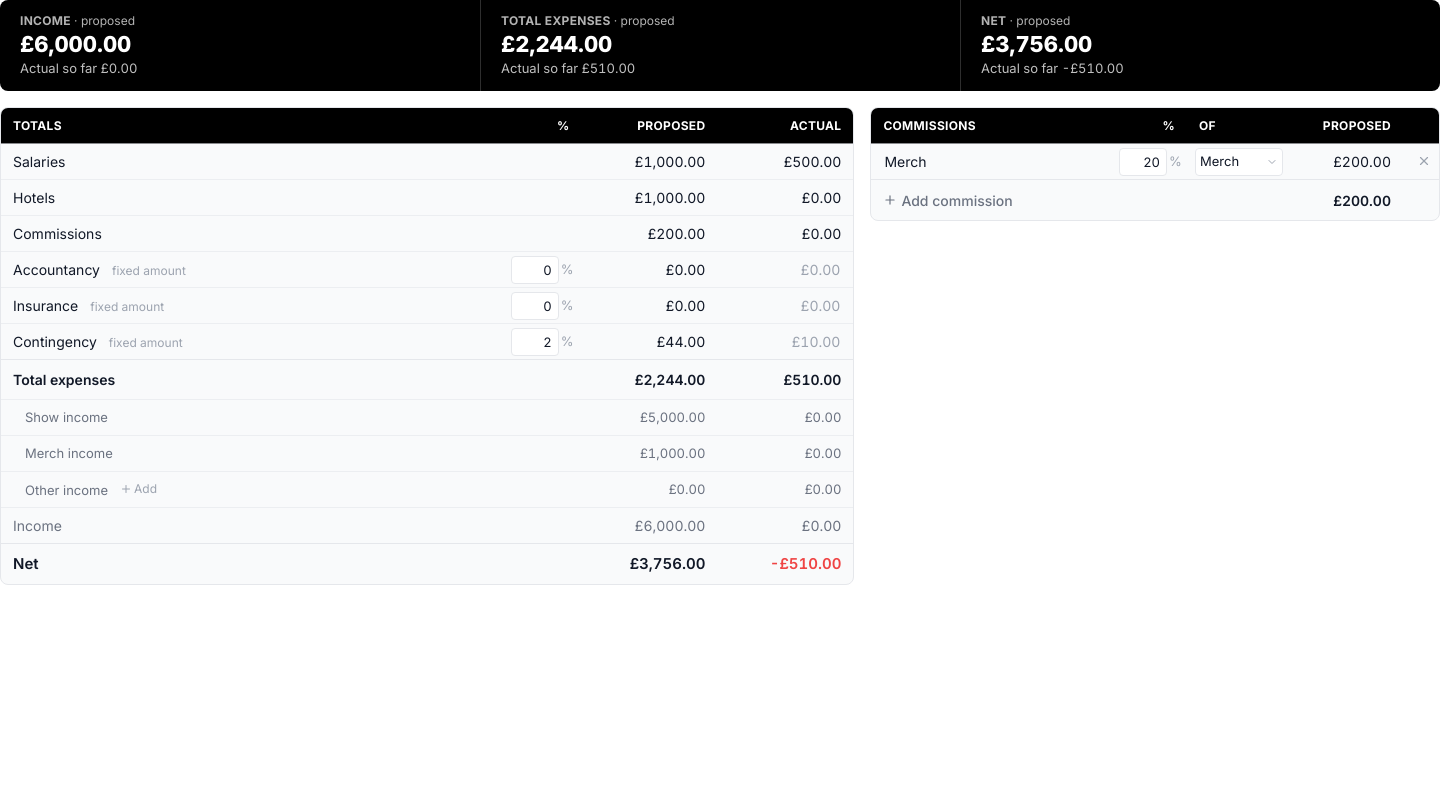
<BudgetSheetTop> › a commission ticks the parts it is a % of
Click the button with aria-label "Merch is a percentage of" at (1239, 162), box [1195,148,1283,176]
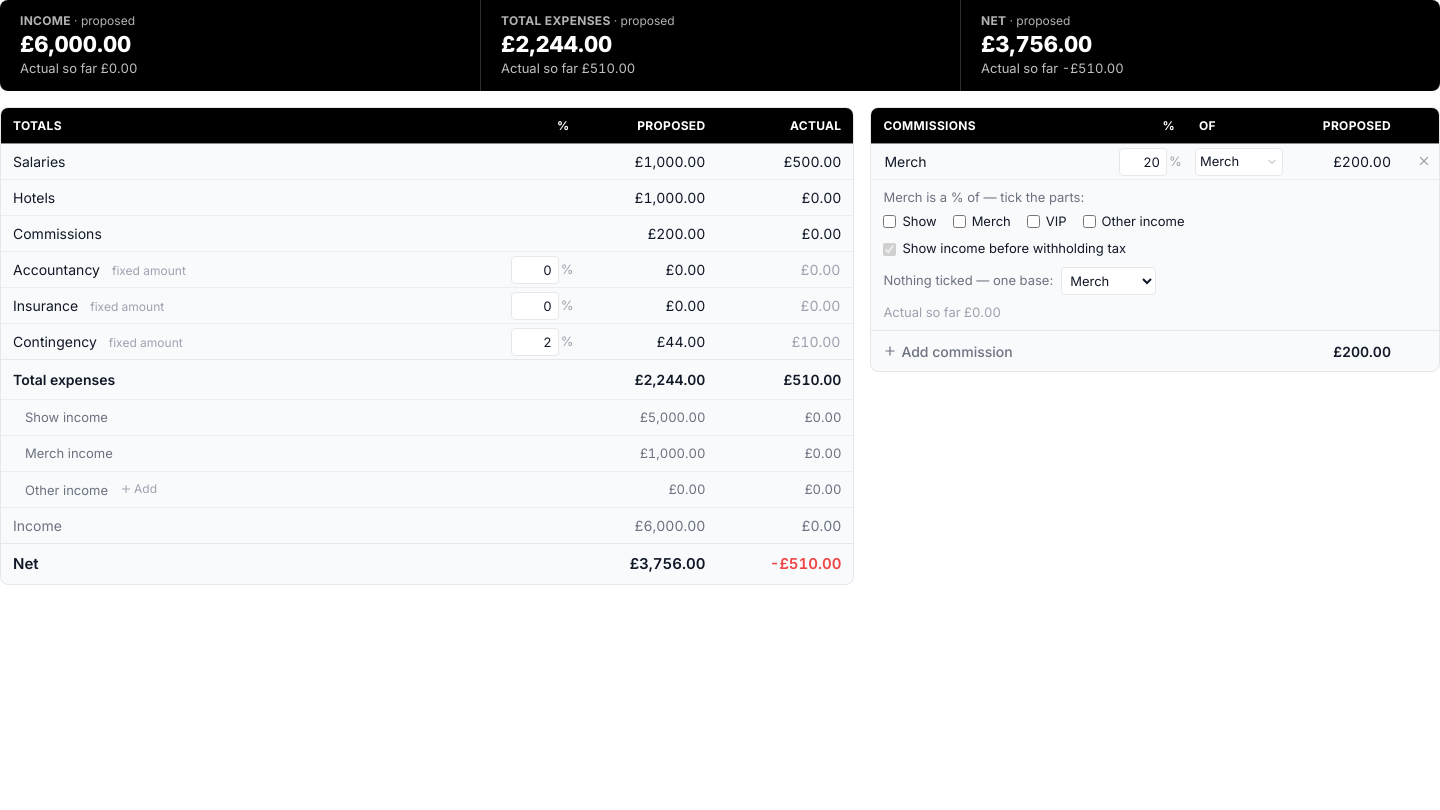
Click the checkbox labelled "Show" at (890, 222), box [883,215,896,228]
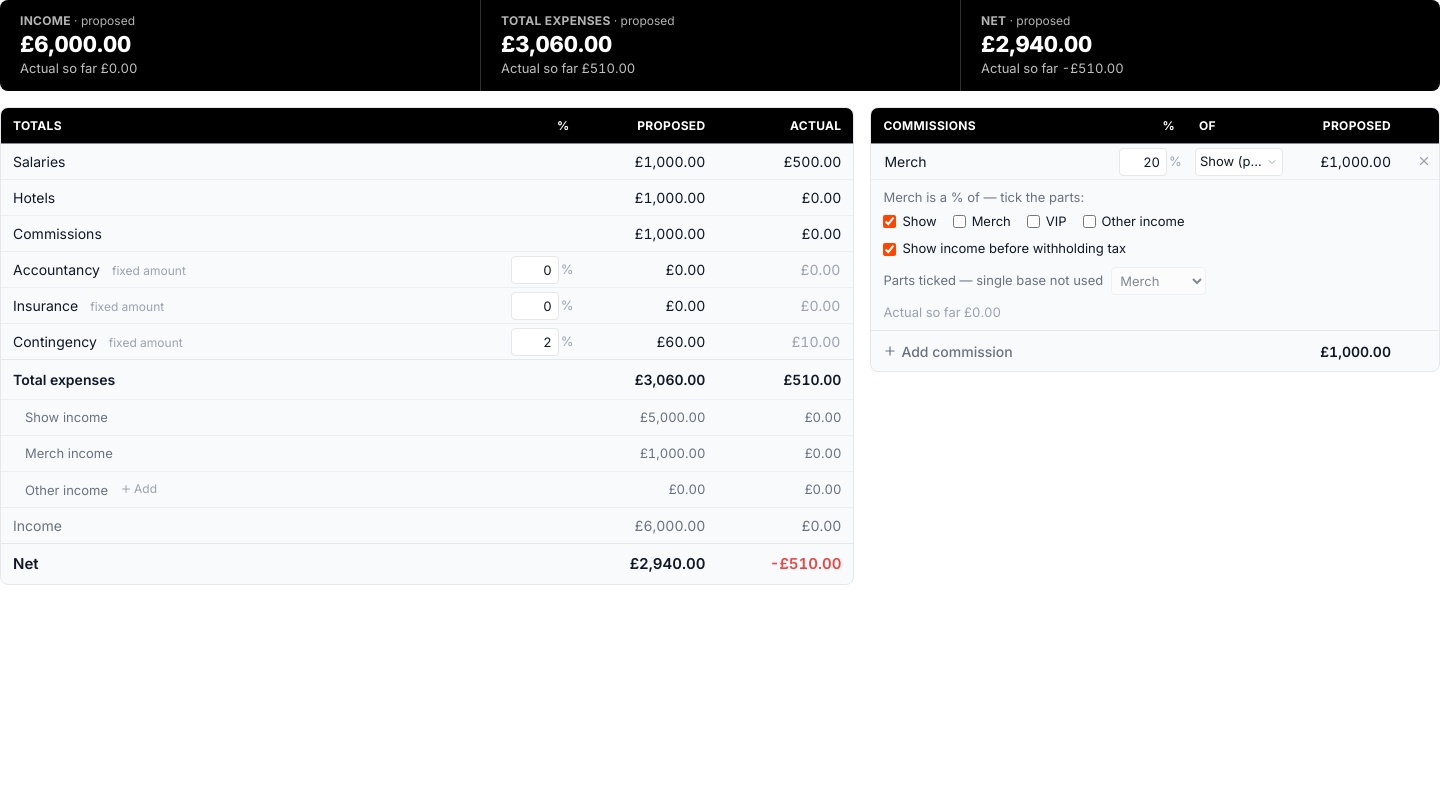
Expected: the 2nd text "£1,000.00" is shown, [1291,144,1403,180]
Expected: the dropdown named "Merch single base" is disabled, [1111,267,1206,295]
